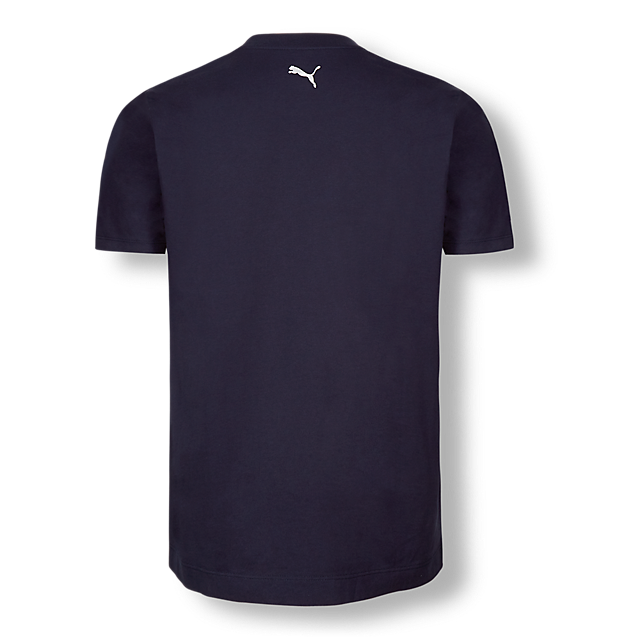T-Shirt: (83, 24, 542, 610)
